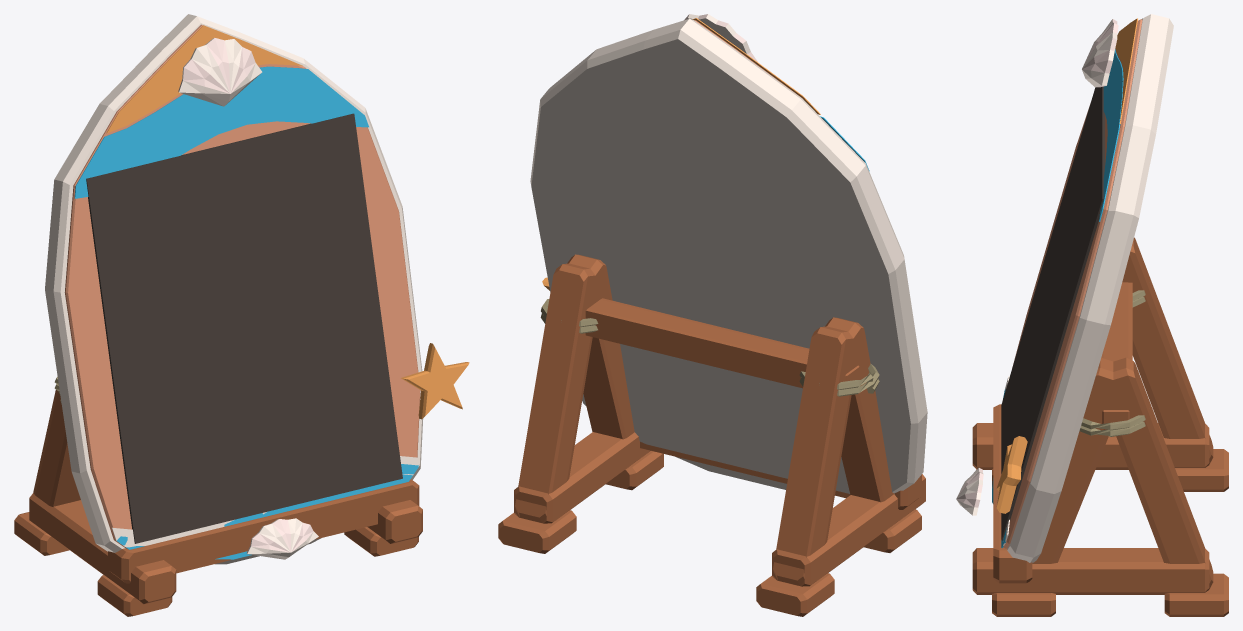
Rendered from surfMenuSign.glb.
3 renders of one model, left to right at view 1: azimuth 30°, elevation 25°; view 2: azimuth 150°, elevation 25°; view 3: azimuth 270°, elevation 25°, orthographic. The views are drawn at different scales.
Visible parts, largest first — view 1: surfMenuSign; view 2: surfMenuSign; view 3: surfMenuSign.
Part boxes in pixels (x1,y1,x2,y2): surfMenuSign: [14, 14, 469, 616]; surfMenuSign: [498, 14, 927, 616]; surfMenuSign: [956, 14, 1228, 616].
Bounding box in the file's own units: 1.63 × 2.1 × 0.9788.
Materials: 1 (1 with a texture image).
